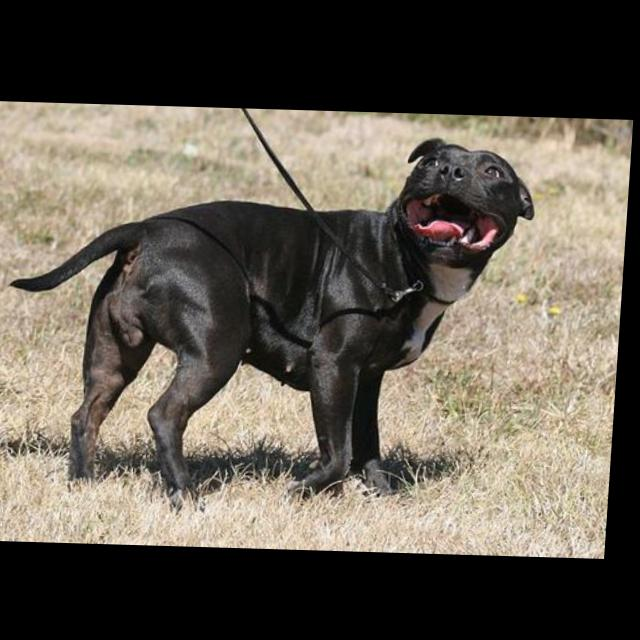staffford: (2, 123, 543, 521)
